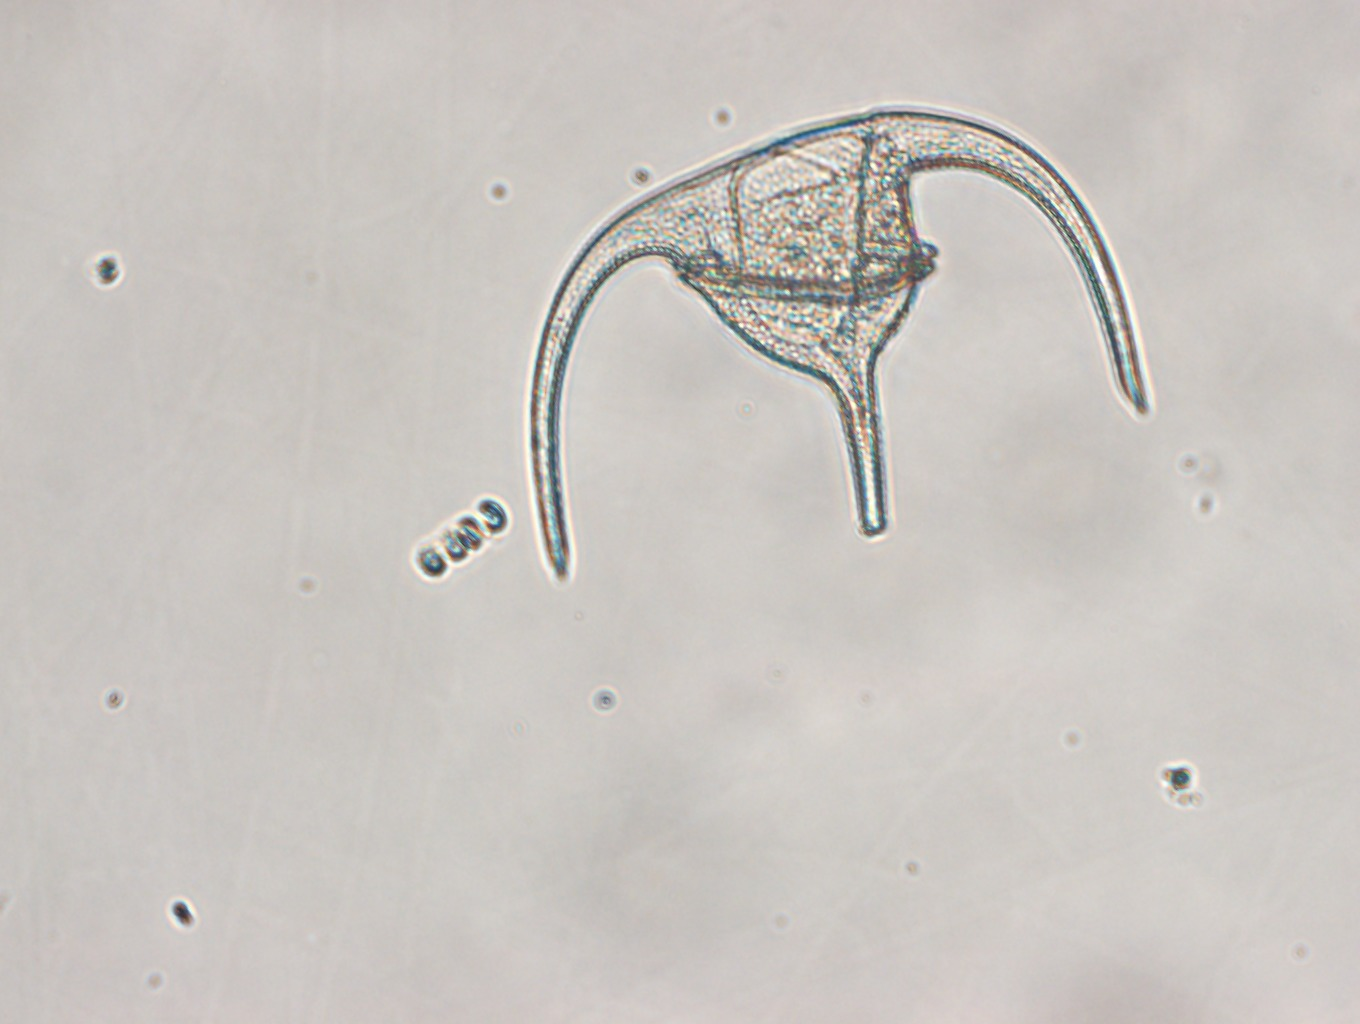ceratium tripos: (531, 103, 1150, 584)
